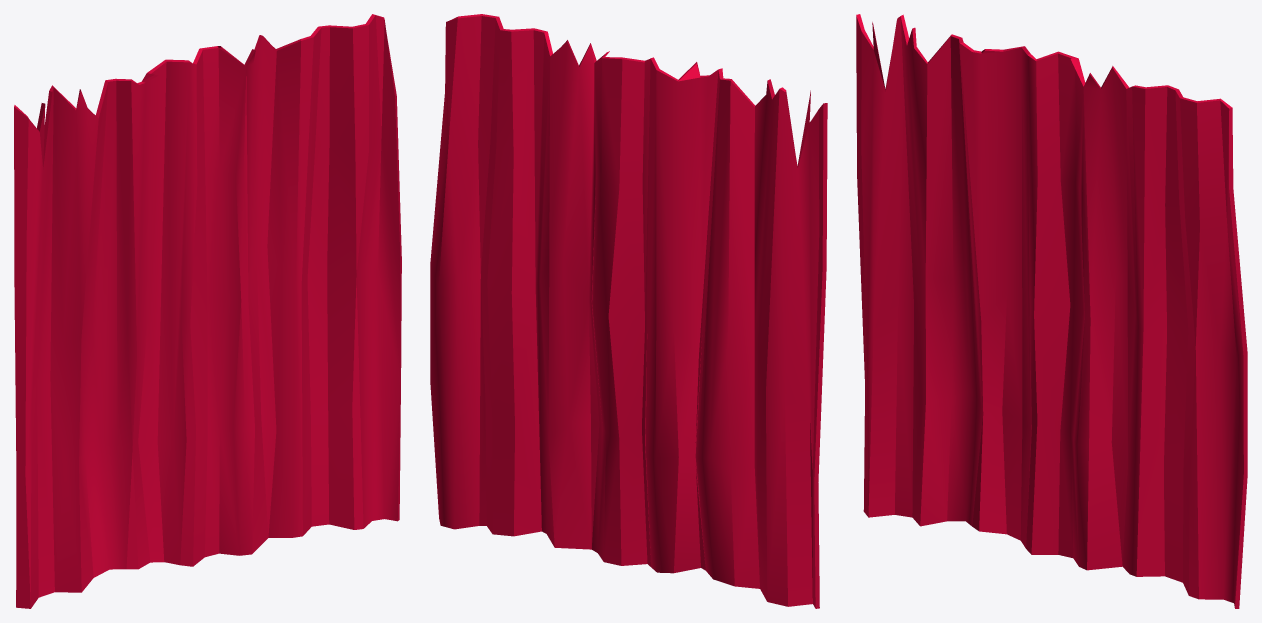
The model's file is panel3.fbx.
3 renders of one model, left to right at view 1: azimuth 30°, elevation 25°; view 2: azimuth 150°, elevation 25°; view 3: azimuth 330°, elevation 25°, orthographic.
Visible parts, largest first — view 1: panel3; view 2: panel3; view 3: panel3.
Boxes of the visible parts, x1,y1,x2,y2 form: panel3: (14, 14, 401, 608); panel3: (430, 14, 827, 608); panel3: (856, 14, 1247, 608).
Size of the model in its own units: 0.5152 by 0.6478 by 0.0556.
